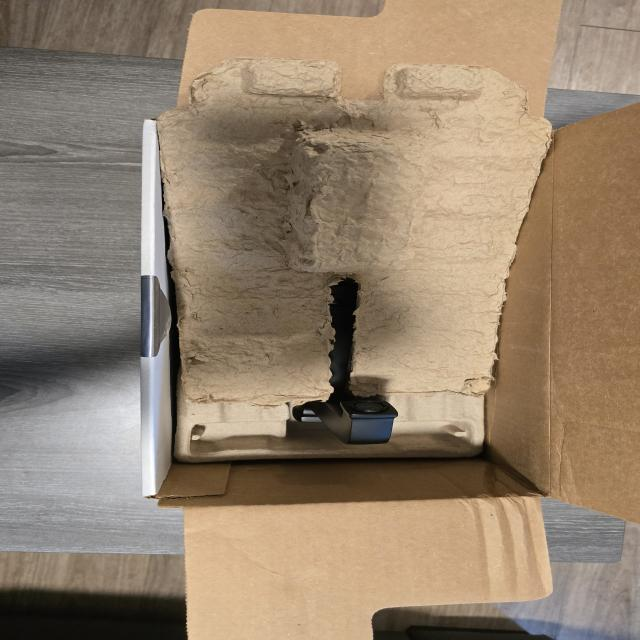9o: (292, 278, 398, 444)
